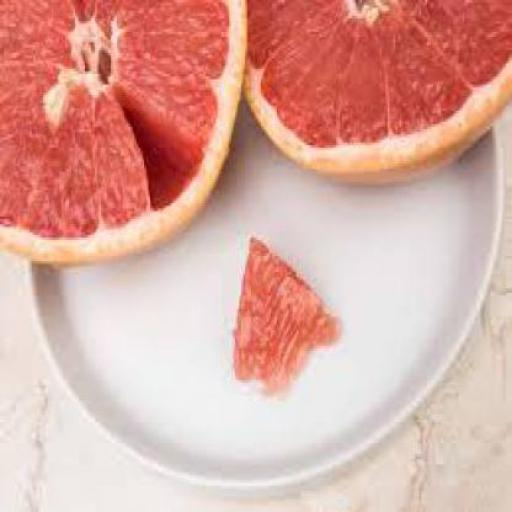biodegradable: (0, 0, 246, 265), (240, 0, 510, 182), (227, 232, 340, 388)
